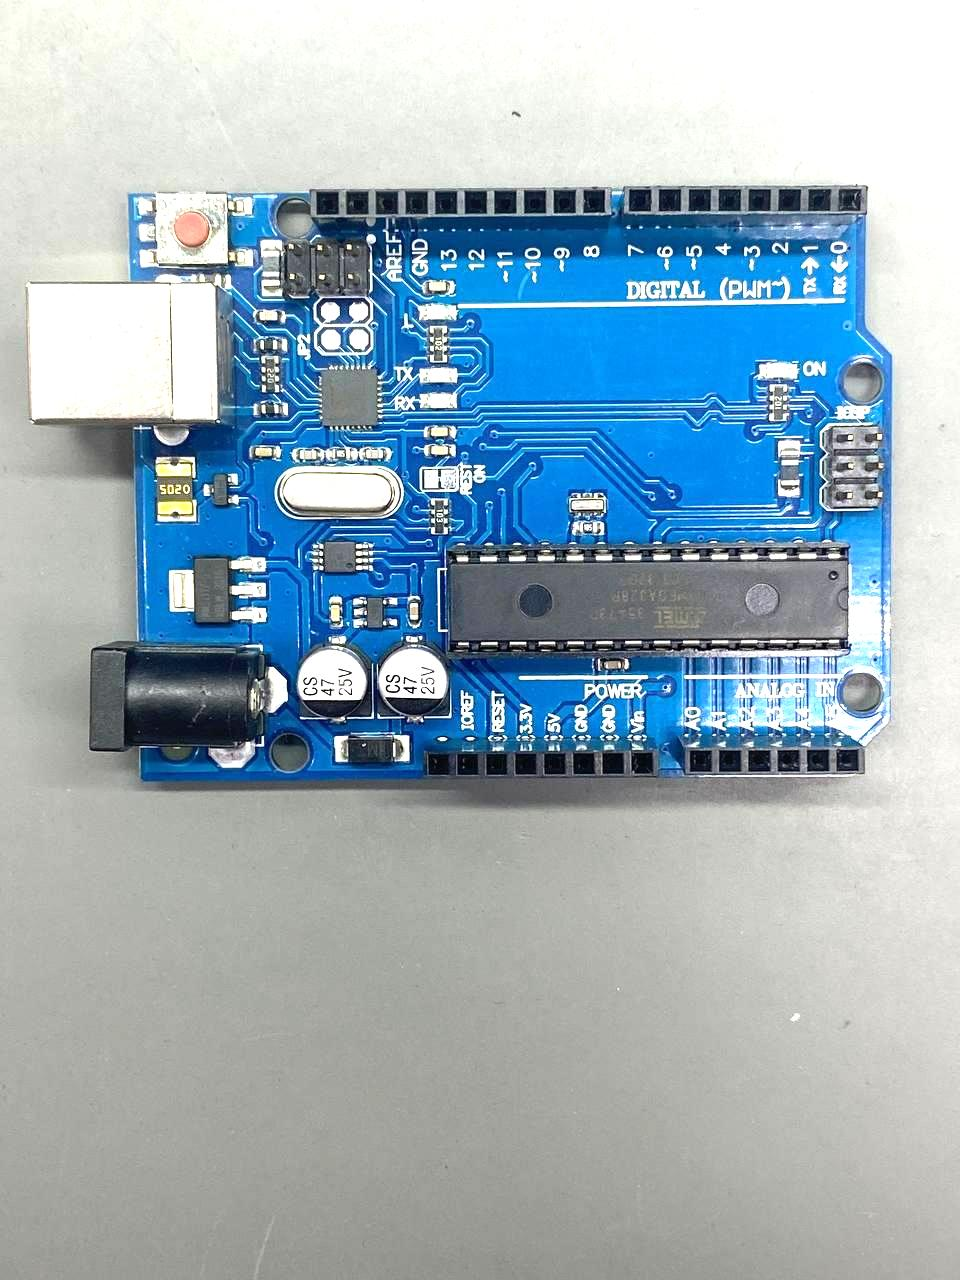ATmega328 chip: (448, 539, 853, 659)
Arduino board: (22, 186, 889, 781)
USB: (25, 278, 219, 422)
capacitor: (376, 647, 453, 719), (295, 646, 369, 720)
pins: (308, 182, 614, 221), (622, 182, 870, 221), (417, 743, 661, 780), (682, 743, 867, 781)
resistor: (260, 355, 281, 393), (428, 326, 449, 363), (768, 384, 789, 421), (431, 498, 450, 535)
